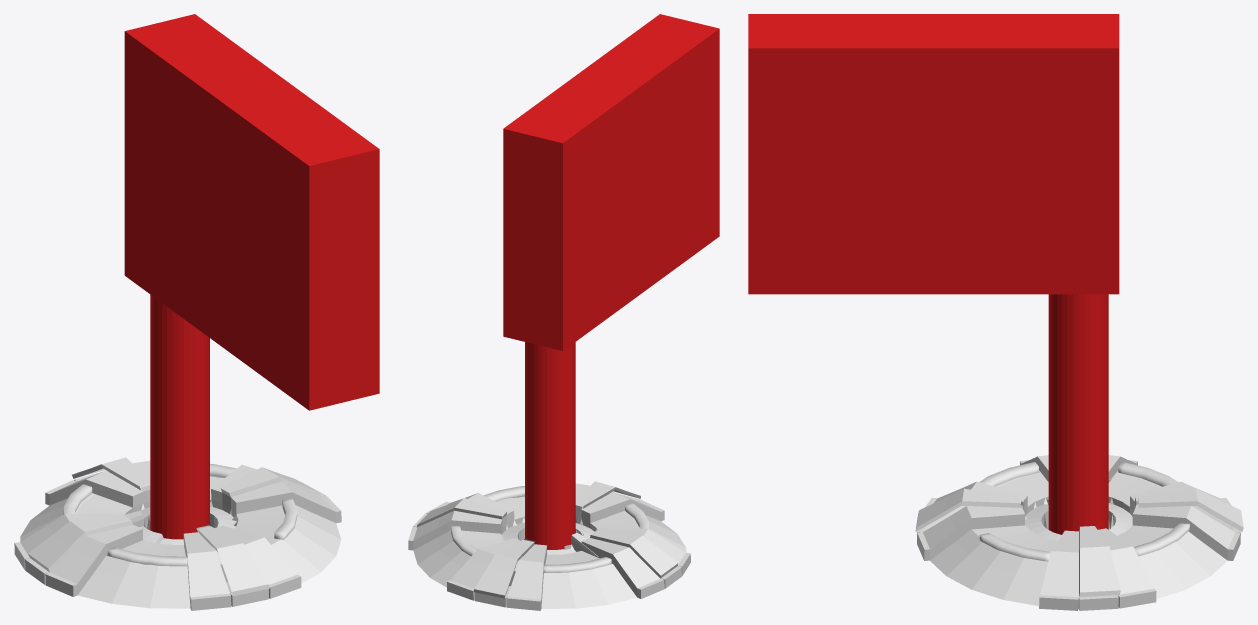
File: Flag.fbx
The picture shows the model from 3 angles, left to right: view 1: azimuth 30°, elevation 25°; view 2: azimuth 150°, elevation 25°; view 3: azimuth 270°, elevation 25°; orthographic projection. The views are drawn at different scales.
Parts seen in each view (by area): view 1: Flag, Base; view 2: Flag, Base; view 3: Flag, Base.
Boxes of the visible parts, x1,y1,x2,y2 form: Flag: (124, 14, 379, 539); Base: (14, 457, 341, 610); Flag: (503, 14, 719, 549); Base: (408, 481, 690, 610); Flag: (748, 14, 1119, 534); Base: (915, 455, 1243, 610).
Bounding box in the file's own units: 223 × 376 × 326.
